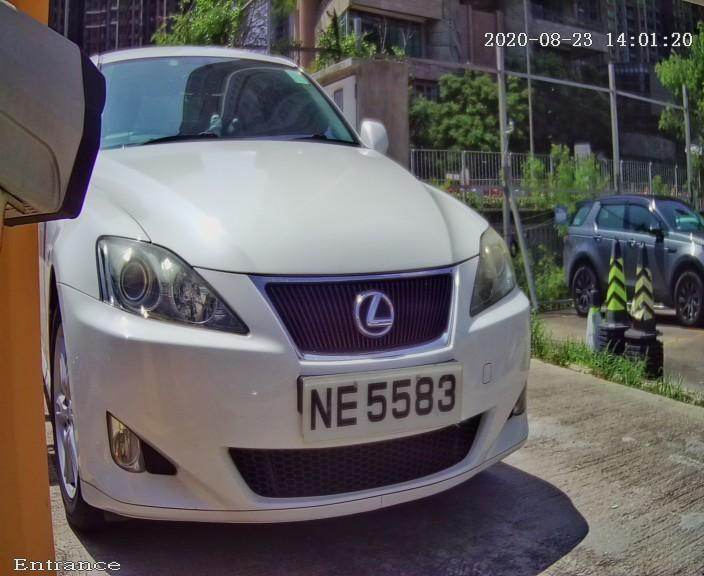Car: (7, 6, 573, 571)
License Plate: (259, 332, 512, 468)
